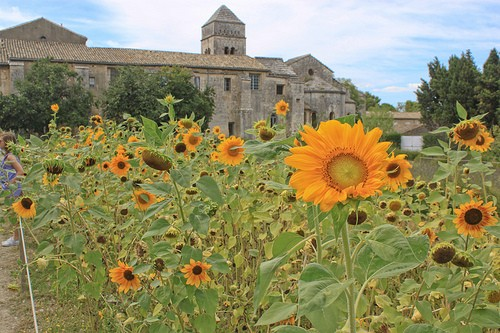flower: (283, 117, 393, 214), (452, 197, 499, 238), (380, 150, 414, 191), (446, 115, 484, 151), (178, 256, 213, 289), (109, 260, 144, 293), (215, 133, 245, 168), (12, 192, 38, 218), (469, 129, 496, 154), (129, 188, 156, 212), (181, 128, 204, 154), (108, 154, 132, 175), (273, 98, 291, 118)
